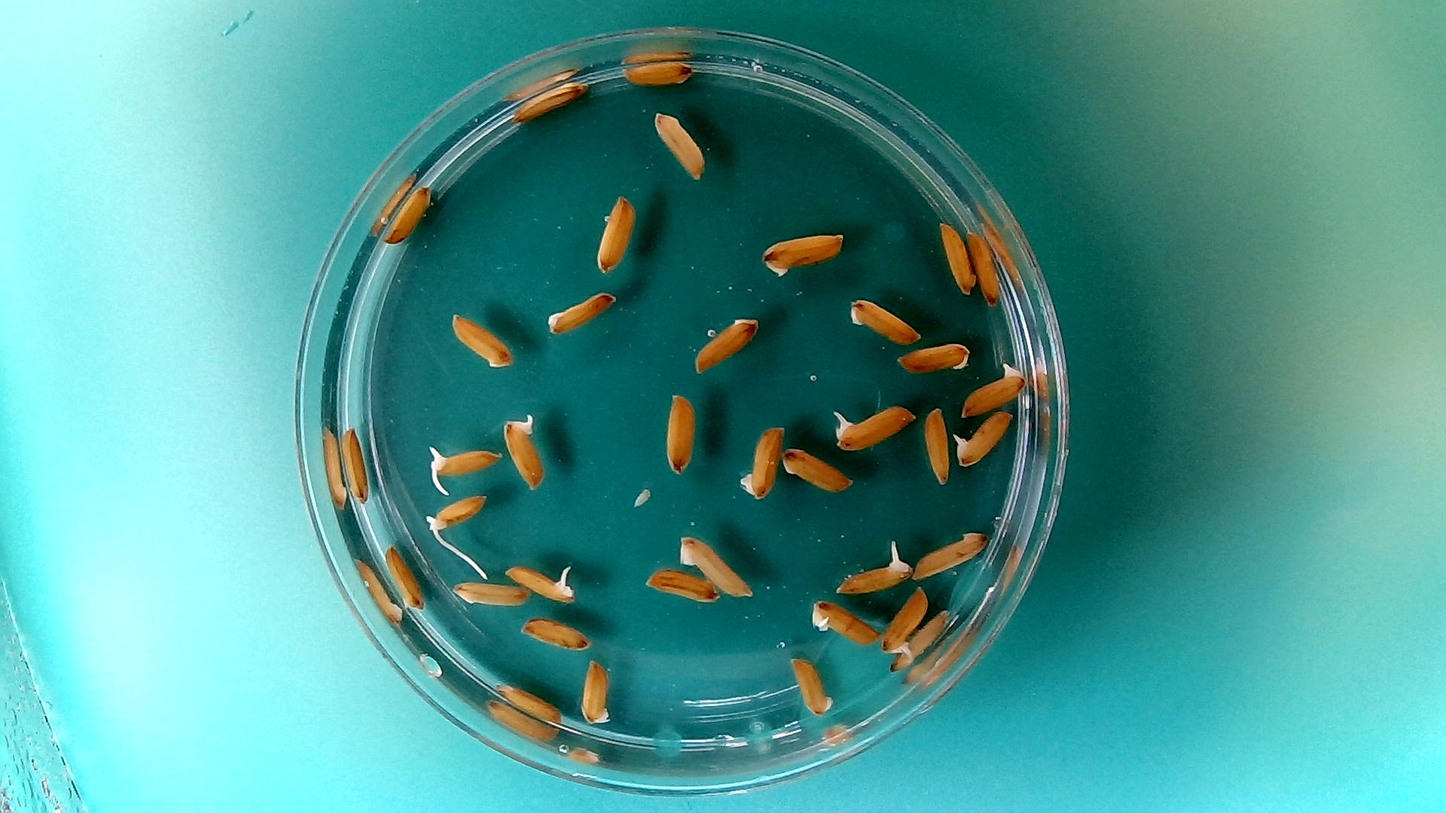no: (674, 531, 755, 599), (758, 227, 850, 279), (690, 310, 761, 374), (911, 525, 992, 580), (890, 605, 953, 671), (447, 310, 515, 370), (844, 294, 923, 345), (736, 420, 785, 502), (651, 108, 706, 181), (779, 445, 855, 495), (541, 287, 618, 336), (509, 77, 591, 123), (592, 191, 636, 275), (381, 180, 435, 245), (494, 679, 565, 725), (662, 388, 699, 476), (642, 564, 721, 604), (788, 652, 835, 719), (383, 538, 425, 612), (339, 423, 375, 509), (936, 218, 976, 295), (965, 225, 1002, 307), (894, 339, 972, 375), (517, 615, 592, 652), (578, 655, 615, 728), (448, 579, 529, 611), (921, 403, 950, 486), (620, 57, 695, 87)
yes: (828, 399, 917, 452), (958, 361, 1030, 419), (500, 410, 548, 493), (423, 441, 505, 489), (950, 408, 1015, 468), (807, 597, 882, 648), (831, 553, 913, 598), (880, 583, 929, 656), (500, 561, 578, 604), (423, 490, 490, 534)
